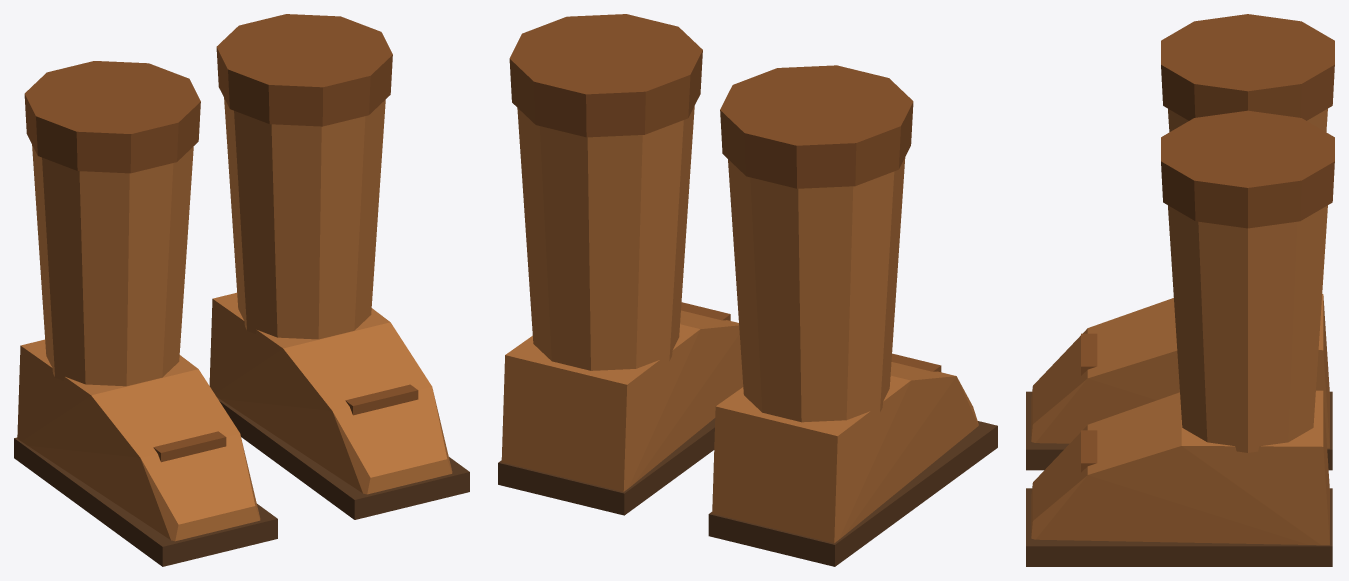
File: drop_bronze_boots.glb
The picture shows the model from 3 angles, left to right: view 1: azimuth 30°, elevation 25°; view 2: azimuth 150°, elevation 25°; view 3: azimuth 270°, elevation 25°; orthographic projection. The views are drawn at different scales.
Visible parts, largest first — view 1: drop_bronze_boots; view 2: drop_bronze_boots; view 3: drop_bronze_boots.
Part boxes in pixels (x1=…): drop_bronze_boots: x1=14, y1=14, x2=469, y2=566; drop_bronze_boots: x1=498, y1=14, x2=997, y2=566; drop_bronze_boots: x1=1026, y1=14, x2=1334, y2=566.
Bounding box in the file's own units: 0.216 × 0.225 × 0.1621.
